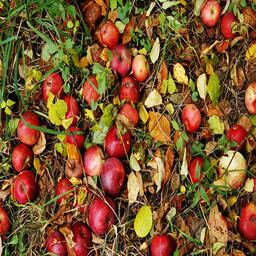apple: (218, 149, 246, 187), (89, 196, 115, 233), (103, 124, 131, 158), (15, 109, 39, 146), (101, 158, 125, 195), (69, 221, 91, 255), (83, 144, 105, 177), (13, 170, 35, 203), (111, 44, 132, 75), (239, 200, 255, 238), (98, 21, 120, 48), (150, 233, 175, 256), (182, 102, 201, 131), (83, 76, 102, 105), (60, 94, 79, 123), (43, 72, 63, 99), (12, 143, 32, 170), (55, 177, 75, 203), (47, 229, 67, 255), (189, 155, 208, 182), (221, 13, 239, 39), (121, 76, 139, 102), (132, 53, 150, 79), (202, 1, 220, 26), (226, 124, 247, 145), (66, 125, 83, 145)
